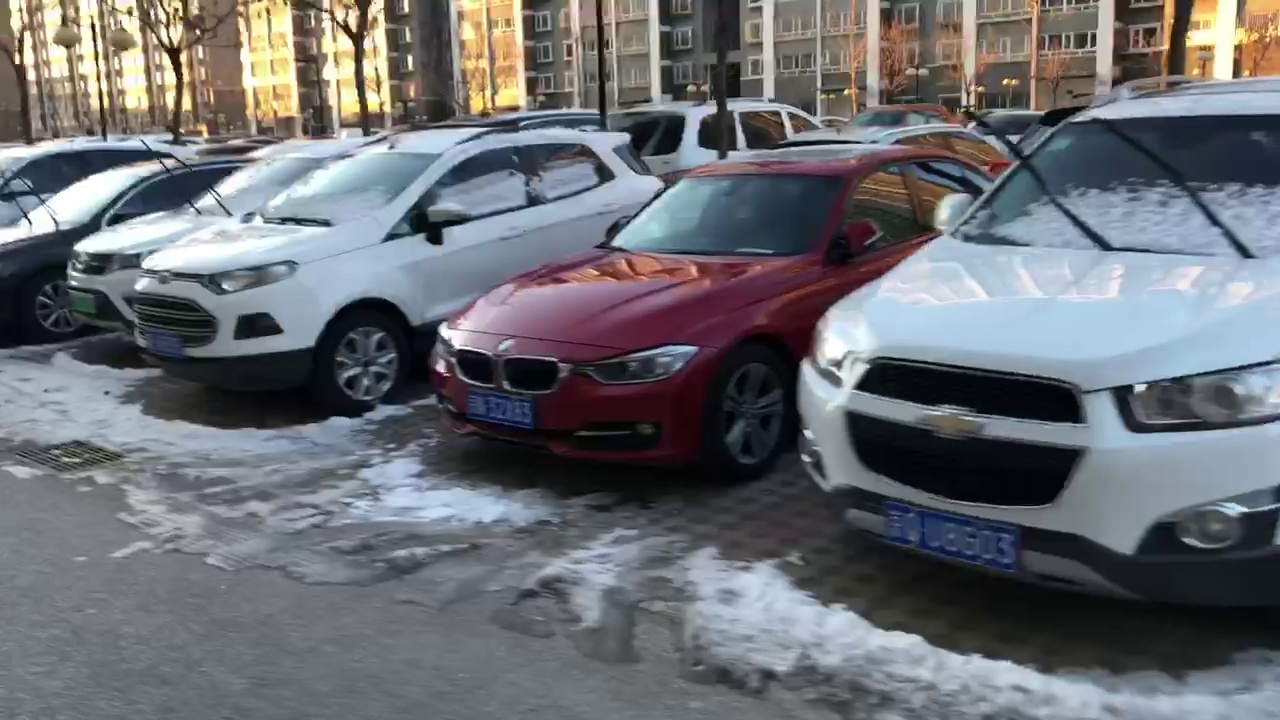plate: (880, 500, 1020, 553), (463, 397, 535, 423), (138, 339, 188, 356)
